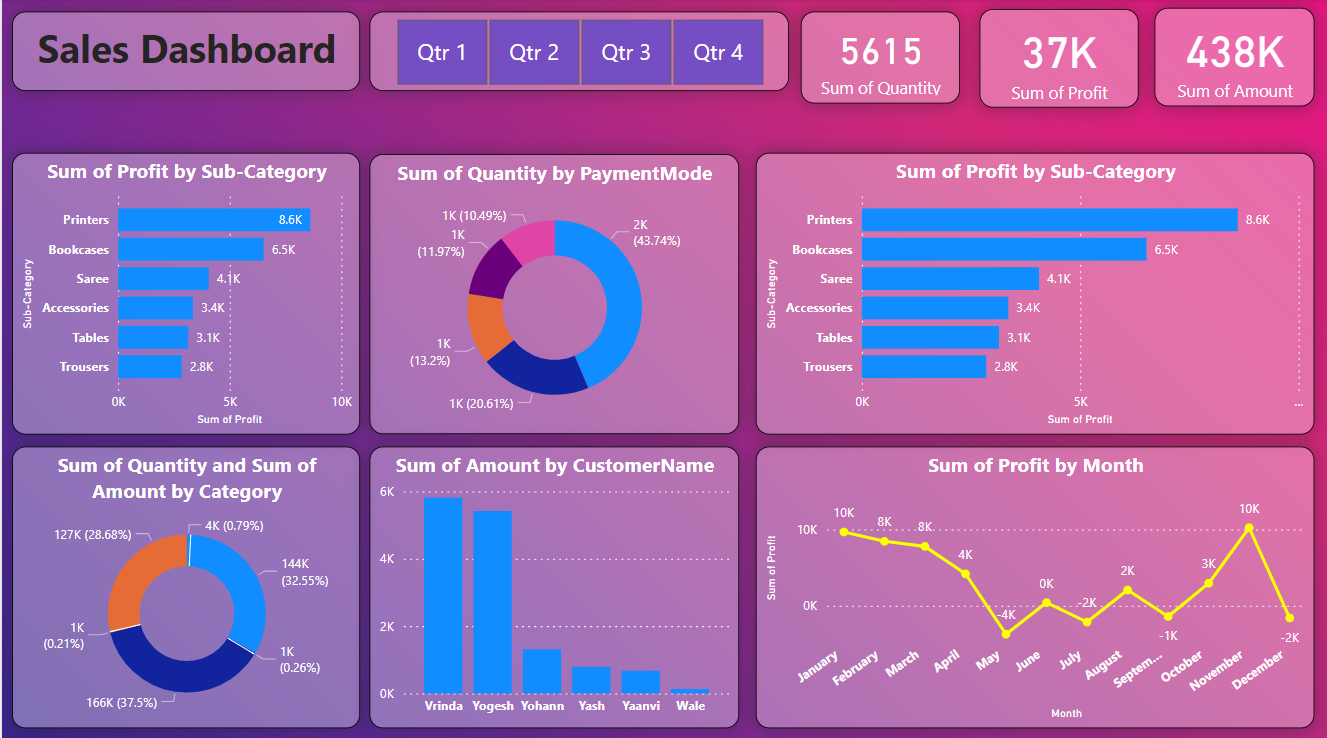

The page's visual inventory and layout, read from the dashboard file:
{"tool":"powerbi","page":{"name":"Page 1","canvas":[1280,720],"ordinal":0},"visuals":[{"type":"textbox","box":[9.4,12.1,336.3,76.7],"z":0},{"type":"lineChart","fields":{"Category":["Orders.Order Date.Variation.Date Hierarchy.Month"],"Y":["Sum(Details.Profit)"]},"box":[727.7,431.8,539.4,271.7],"z":1000},{"type":"barChart","fields":{"Y":["Sum(Details.Profit)"],"Category":["Details.Sub-Category"]},"box":[727.7,148,539.4,271.7],"z":2000},{"type":"donutChart","fields":{"Y":["Sum(Details.Quantity)","Sum(Details.Amount)"],"Category":["Details.Category"]},"box":[9.4,431.8,336.3,271.7],"z":3000},{"type":"donutChart","fields":{"Y":["Sum(Details.Quantity)"],"Category":["Details.PaymentMode"]},"box":[355.1,149.3,356.5,270.4],"z":4000},{"type":"card","fields":{"Values":["Sum(Details.Amount)"]},"box":[1112.4,8.1,154.7,95.5],"z":5000},{"type":"card","fields":{"Values":["Sum(Details.Profit)"]},"box":[942.9,9.4,153.3,95.5],"z":6000},{"type":"card","fields":{"Values":["Sum(Details.Quantity)"]},"box":[770.7,12.1,153.3,88.8],"z":7000},{"type":"barChart","fields":{"Y":["Sum(Details.Profit)"],"Category":["Details.Sub-Category"]},"box":[9.4,148,336.3,271.7],"z":8000},{"type":"lineStackedColumnComboChart","fields":{"Category":["Orders.CustomerName"],"Y":["Sum(Details.Amount)"]},"box":[355.1,431.8,356.5,271.7],"z":9000},{"type":"slicer","fields":{"Values":["Orders.Order Date.Variation.Date Hierarchy.Quarter"]},"box":[355.1,12.1,404.9,76.7],"z":10000}]}

Visuals, with their boxes in screenshot pixels (x1, y1, x2, y2), scaled from the page's 1280x720 canvas onto the 1327x738 screenshot:
textbox: pyautogui.locateOnScreen(10, 12, 358, 91)
lineChart - Orders.Order Date.Variation.Date Hierarchy.Month x Sum(Details.Profit): pyautogui.locateOnScreen(754, 443, 1314, 721)
barChart - Sum(Details.Profit) x Details.Sub-Category: pyautogui.locateOnScreen(754, 152, 1314, 430)
donutChart - Sum(Details.Quantity) x Sum(Details.Amount): pyautogui.locateOnScreen(10, 443, 358, 721)
donutChart - Sum(Details.Quantity) x Details.PaymentMode: pyautogui.locateOnScreen(368, 153, 738, 430)
card - Sum(Details.Amount): pyautogui.locateOnScreen(1153, 8, 1314, 106)
card - Sum(Details.Profit): pyautogui.locateOnScreen(978, 10, 1136, 108)
card - Sum(Details.Quantity): pyautogui.locateOnScreen(799, 12, 958, 103)
barChart - Sum(Details.Profit) x Details.Sub-Category: pyautogui.locateOnScreen(10, 152, 358, 430)
lineStackedColumnComboChart - Orders.CustomerName x Sum(Details.Amount): pyautogui.locateOnScreen(368, 443, 738, 721)
slicer - Orders.Order Date.Variation.Date Hierarchy.Quarter: pyautogui.locateOnScreen(368, 12, 788, 91)
